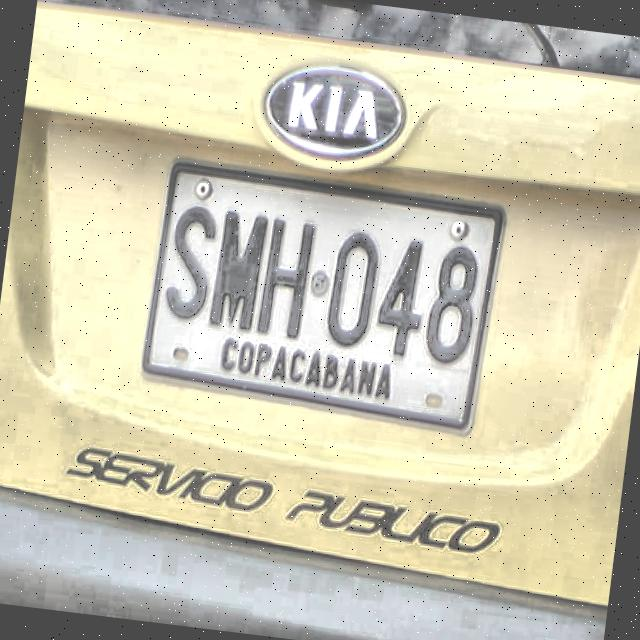plate: (147, 165, 497, 425)
